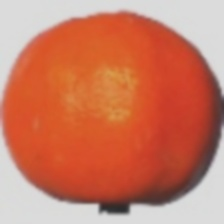tangerine: (28, 29, 206, 220)
